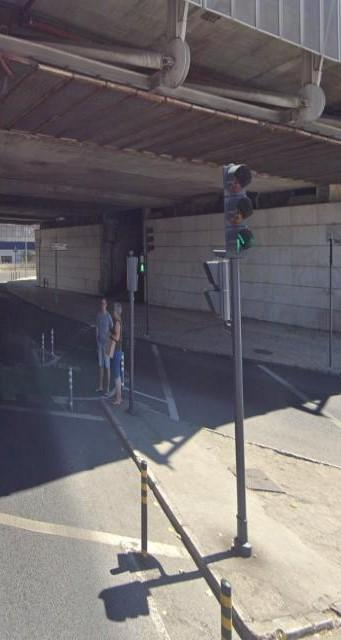green_light: (223, 164, 254, 253)
